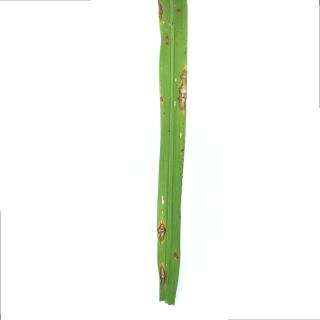Blast: (178, 69, 187, 112), (158, 218, 168, 241), (159, 265, 168, 285), (158, 1, 165, 23), (173, 250, 179, 260)
